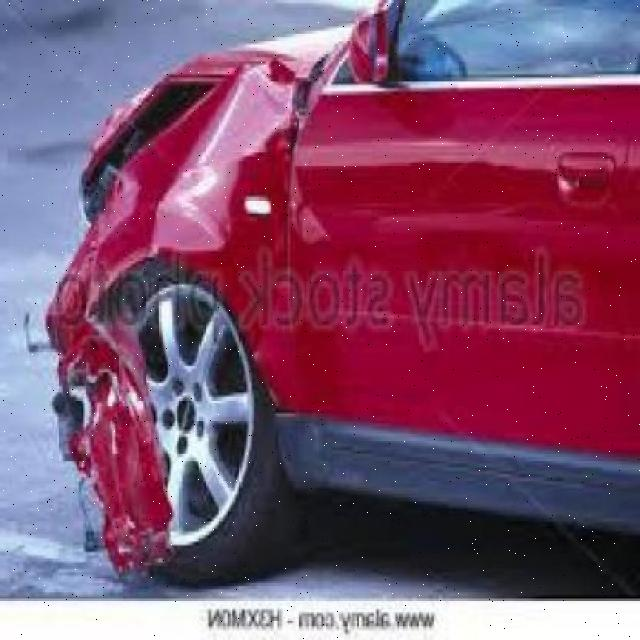damage: (39, 21, 342, 577)
